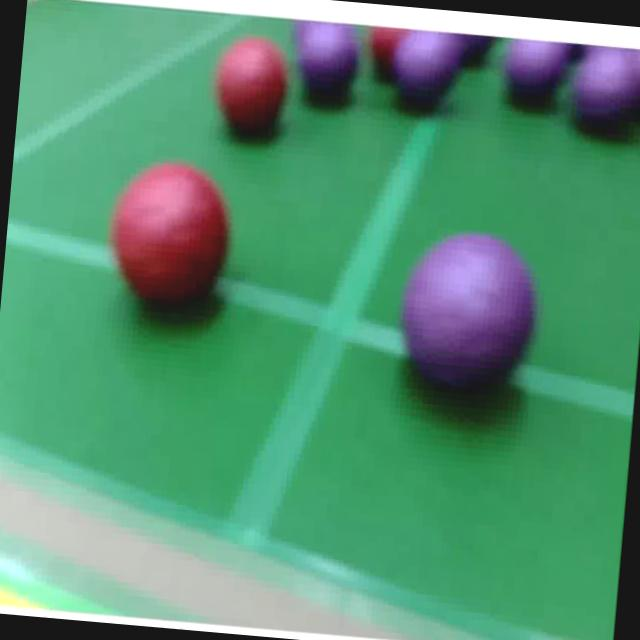purple_ball: (390, 225, 546, 413), (568, 47, 640, 147), (392, 31, 463, 115), (296, 21, 362, 109), (501, 38, 572, 118)
red_ball: (108, 158, 236, 320), (210, 32, 294, 136), (369, 27, 400, 84)
